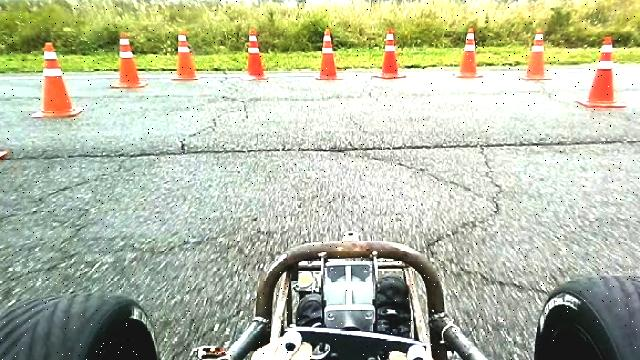red cone: (31, 41, 84, 118), (574, 34, 626, 108), (110, 32, 147, 88), (371, 28, 406, 79), (518, 28, 552, 80), (454, 26, 483, 78), (314, 28, 342, 80), (240, 29, 268, 80), (170, 33, 200, 80)
